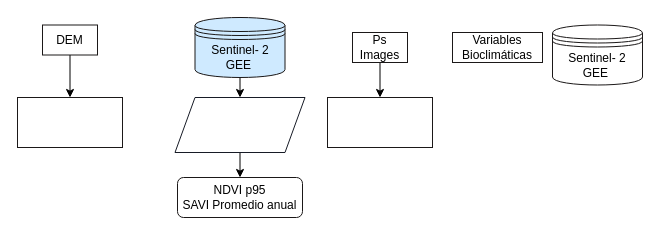
This 660x235 diagram has some shape labels left out. Each missing label, with the centre of its shape:
"Máscara de Nubes y Sombras" belongs at point (239, 124).
"Índices de Vegetación" belongs at point (379, 122).
"Índices Morfométricos" belongs at point (69, 122).
